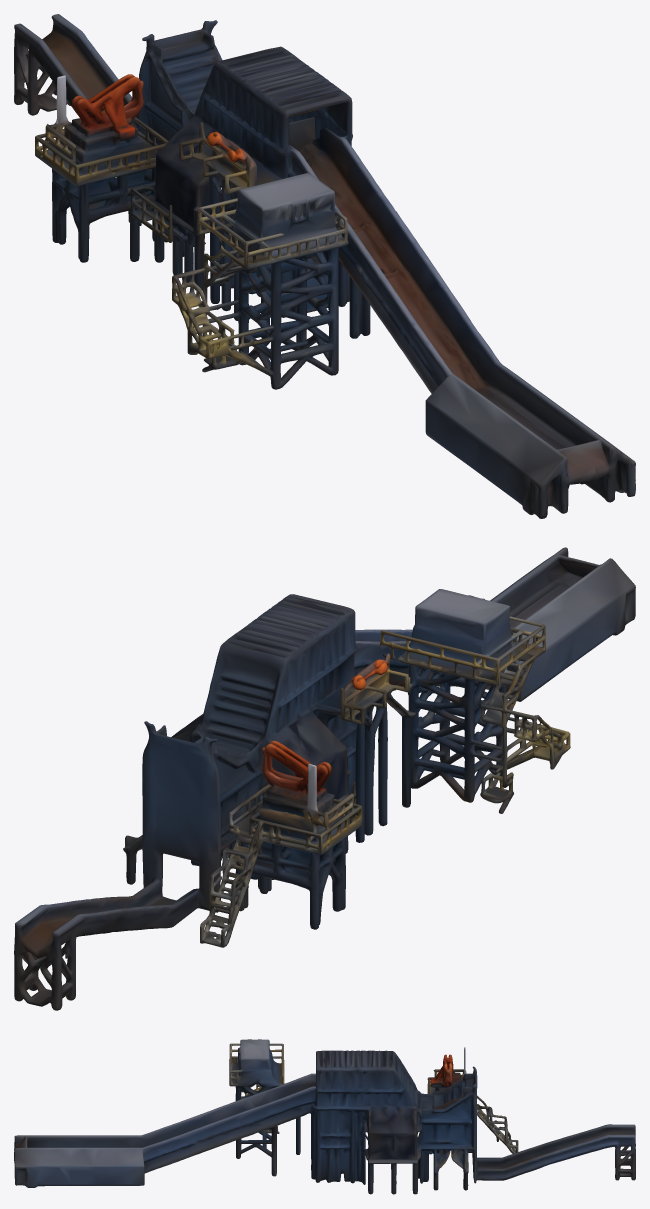
The model's file is shredder.glb.
3 views of the same model, one above another, from view 1: azimuth 30°, elevation 25°; view 2: azimuth 150°, elevation 25°; view 3: azimuth 270°, elevation 25° (orthographic). The views are drawn at different scales.
Bounding box in the file's own units: 0.2745 × 0.2093 × 1.
